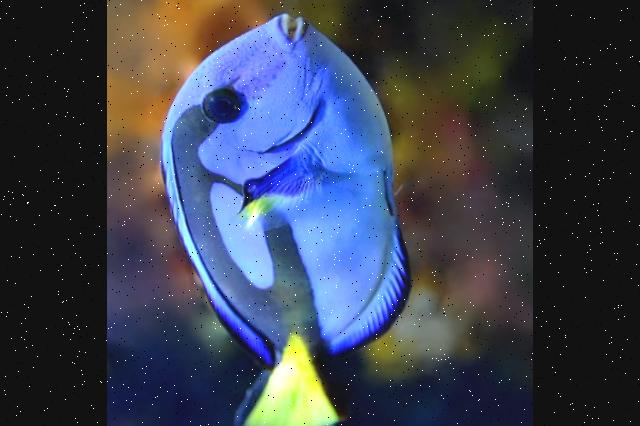Mulut: (260, 0, 324, 64)
Sirip Anal: (323, 228, 421, 360)
Sirip Dada: (229, 136, 343, 239)
Sirip Ekor: (221, 347, 346, 426)
Sirip Perut: (375, 153, 413, 221)
Sirip Punggung: (154, 125, 284, 376)
